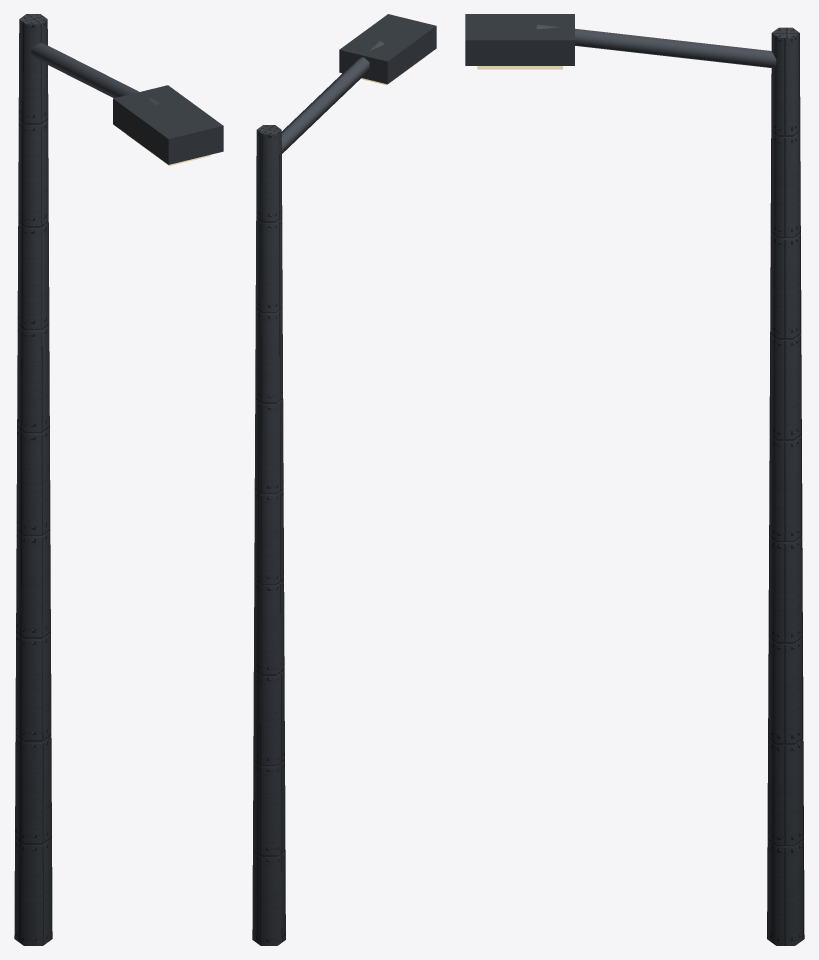
Rendered from poste_de_rua.glb.
The picture shows the model from 3 angles, left to right: view 1: azimuth 30°, elevation 25°; view 2: azimuth 150°, elevation 25°; view 3: azimuth 270°, elevation 25°; orthographic projection. The views are drawn at different scales.
Visible parts, largest first — view 1: poste_de_rua_metal, poste_de_rua; view 2: poste_de_rua_metal, poste_de_rua; view 3: poste_de_rua_metal, poste_de_rua.
Boxes of the visible parts, x1,y1,x2,y2 form: poste_de_rua_metal: (14,14,52,945); poste_de_rua: (31,43,223,165); poste_de_rua_metal: (252,125,285,945); poste_de_rua: (281,14,436,153); poste_de_rua_metal: (767,27,804,945); poste_de_rua: (465,14,776,69).
Size of the model in its own units: 0.4 by 6.46 by 2.17.
Materials: 3 (1 with a texture image).
